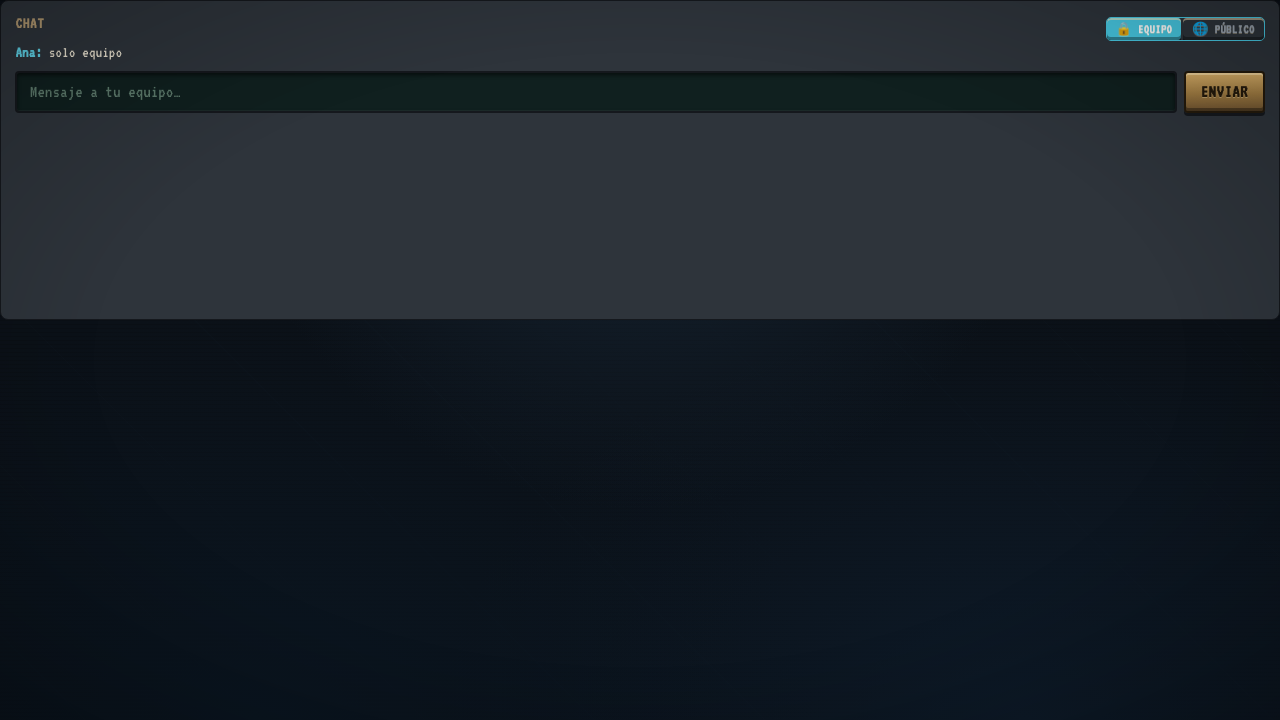
Test: Chat › con conCanales filtra los mensajes por el canal activo (arranca en equipo)
The image size is (1280, 720).
Expected: the text "solo equipo" is shown, [49,44,122,60]
Expected: the text "para todos" is not shown
Step 1. Click the tab "🌐 Público" → (1223, 29), box [1183,18,1264,40]
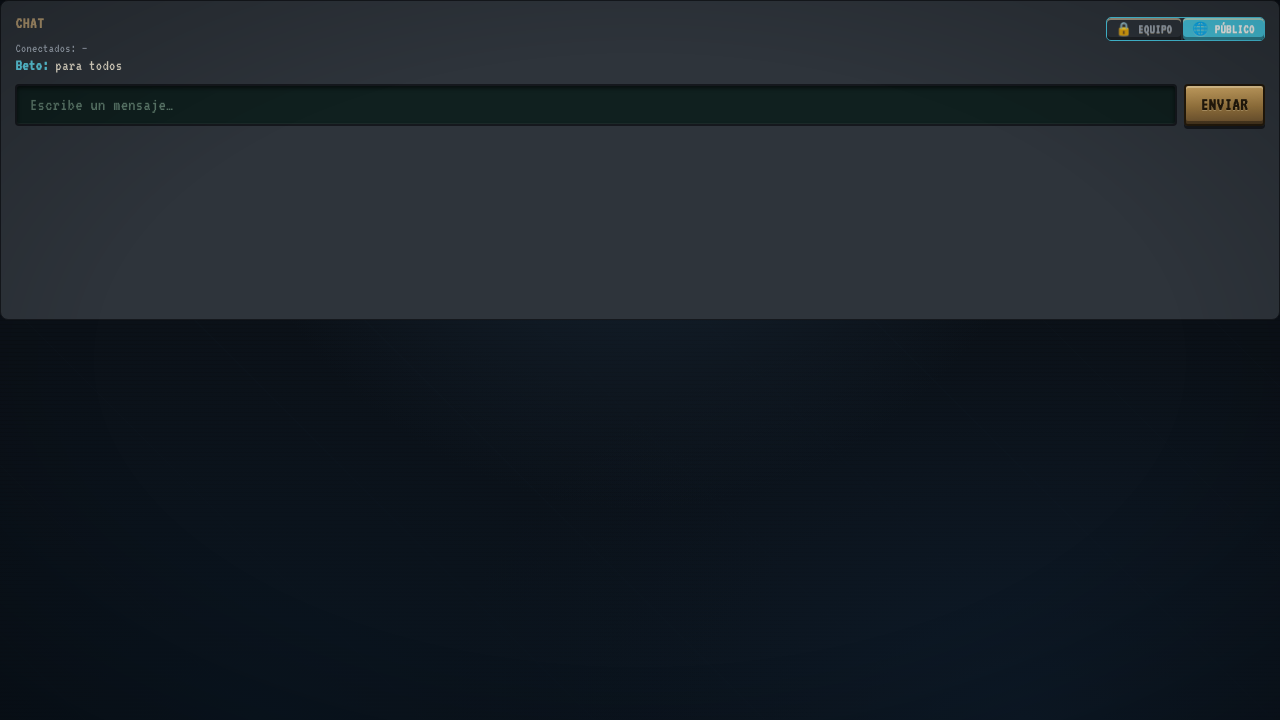
Expected: the text "para todos" is shown, [56,57,122,73]
Expected: the text "solo equipo" is gone
